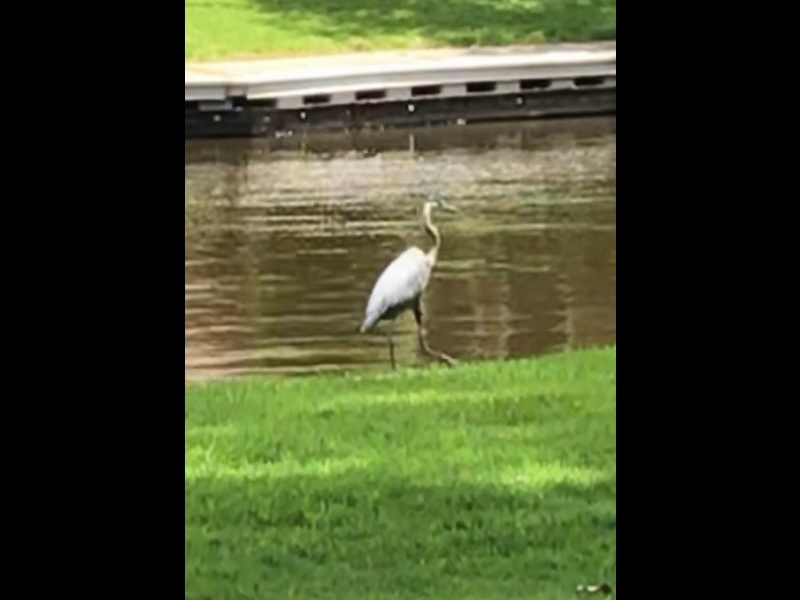heron: (356, 196, 459, 378)
